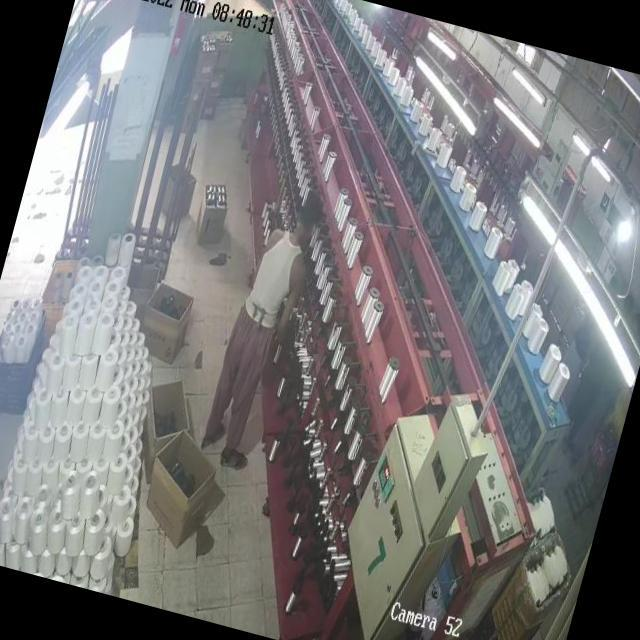person: (198, 186, 324, 440)
